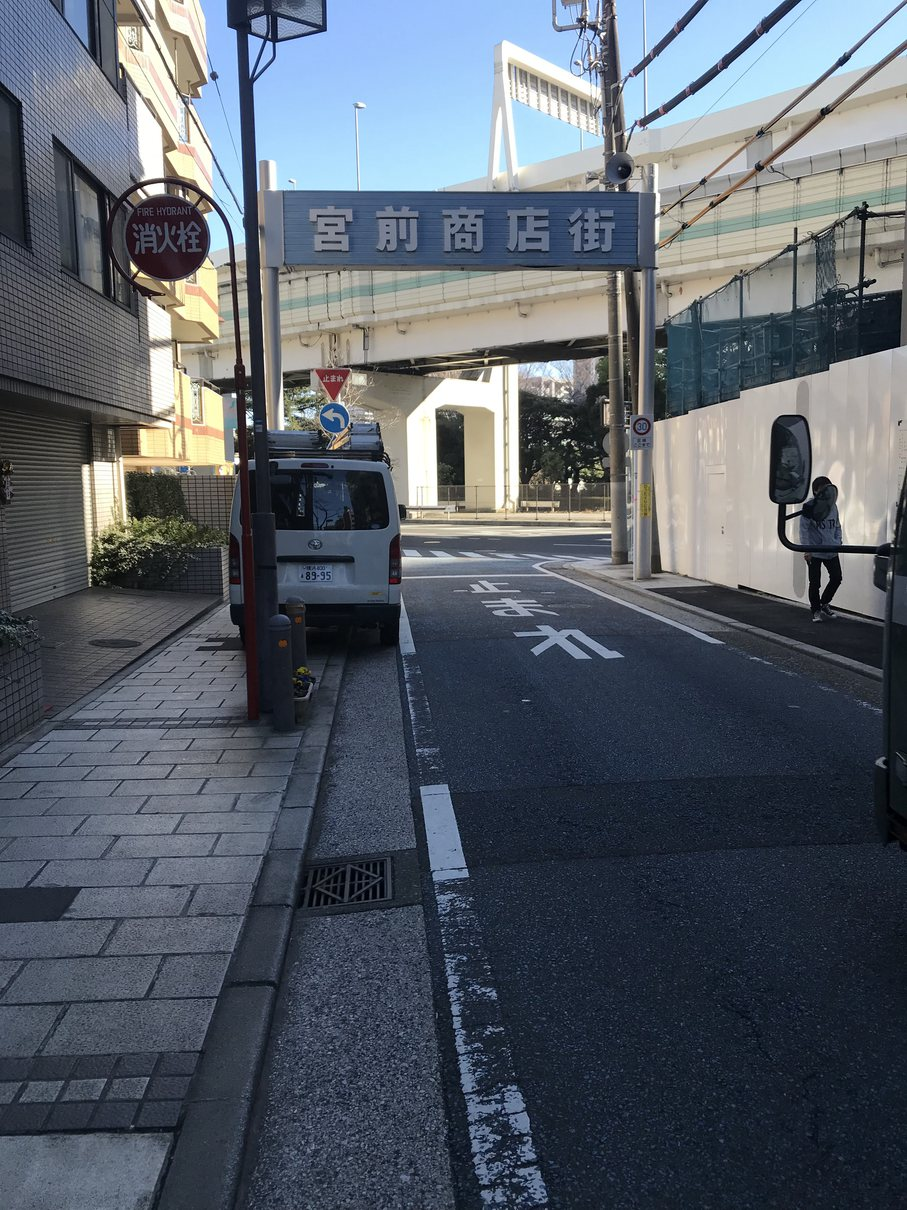stop_sign: (312, 367, 352, 400)
